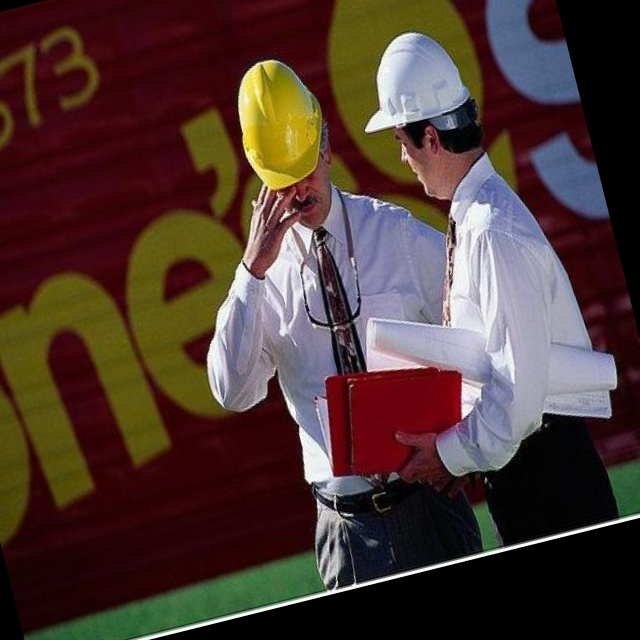Con_Casco: (346, 19, 497, 207), (221, 50, 348, 219)
